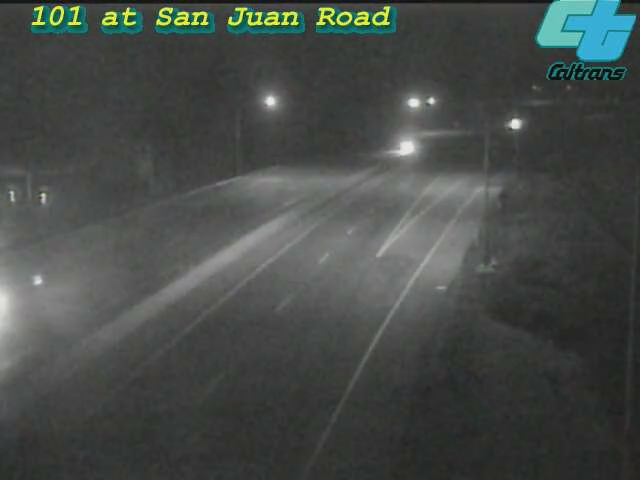vehicle: (1, 265, 43, 345), (380, 123, 430, 173), (490, 100, 540, 150)
